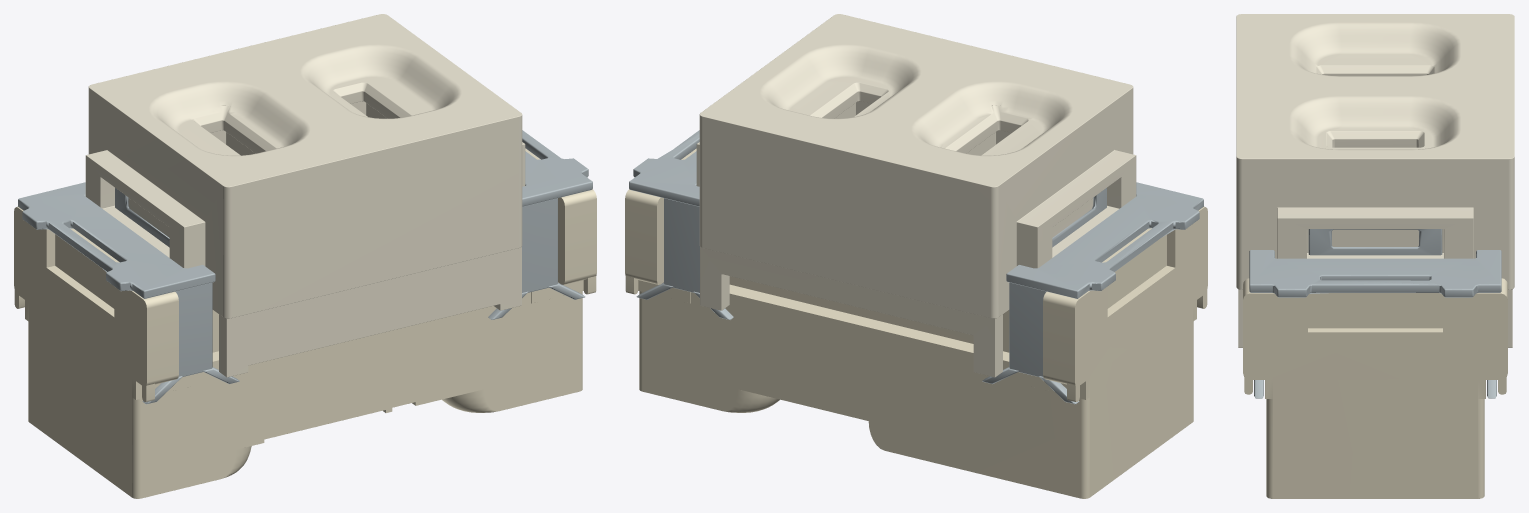
File: outlet_single.glb
3 views of the same model, side by side, from view 1: azimuth 30°, elevation 25°; view 2: azimuth 150°, elevation 25°; view 3: azimuth 270°, elevation 25° (orthographic).
Visible parts, largest first — view 1: CoverResin, BodyResin, MetalClip; view 2: CoverResin, BodyResin, MetalClip; view 3: CoverResin, BodyResin, MetalClip.
Part boxes in pixels (box(x1,y1,x2,y2)): CoverResin: box(85, 14, 525, 377); BodyResin: box(14, 148, 596, 498); MetalClip: box(18, 130, 592, 404); CoverResin: box(696, 14, 1136, 377); BodyResin: box(625, 148, 1207, 498); MetalClip: box(629, 130, 1203, 404); CoverResin: box(1236, 14, 1514, 347); BodyResin: box(1243, 278, 1507, 498); MetalClip: box(1249, 229, 1501, 398).
Size of the model in its own units: 0.044 by 0.0275 by 0.0227.
